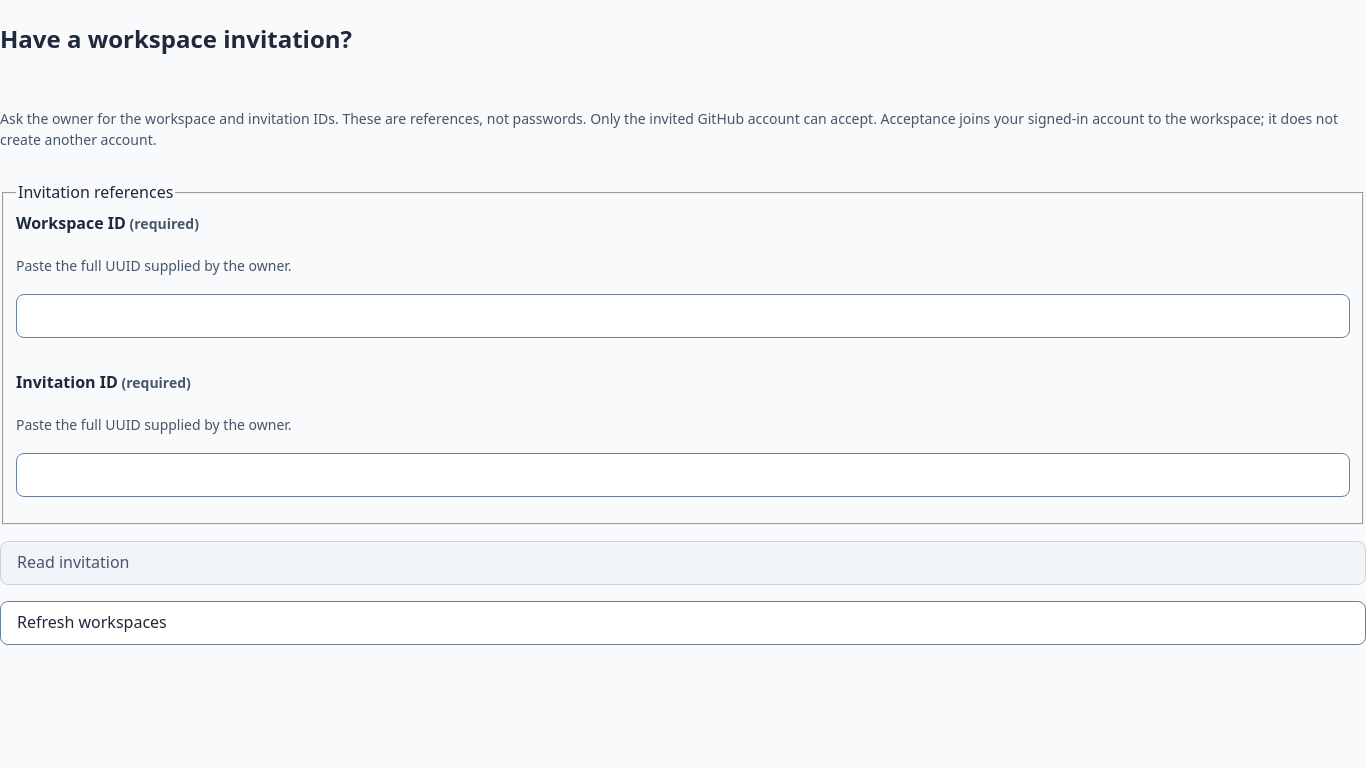
Scenario: locks unconfirmed acceptance without automatic retry: offline
Type "11111111-1111-4111-8111-111111111111" into the field labelled "Workspace ID (required)".
click(683, 316); type("11111111-1111-4111-8111-111111111111")  # box [16,294,1350,338]
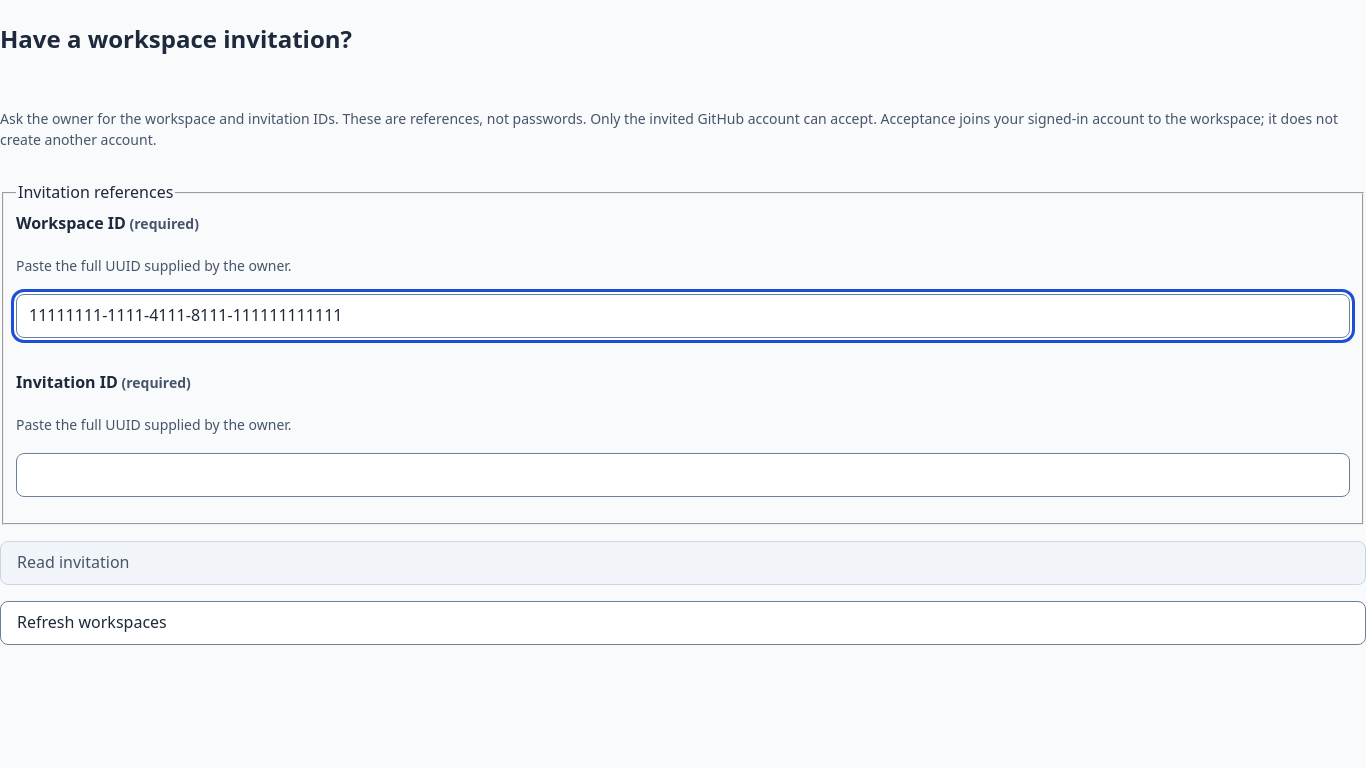
Type "22222222-2222-4222-8222-222222222222" into the field labelled "Invitation ID (required)".
click(683, 475); type("22222222-2222-4222-8222-222222222222")  # box [16,453,1350,497]
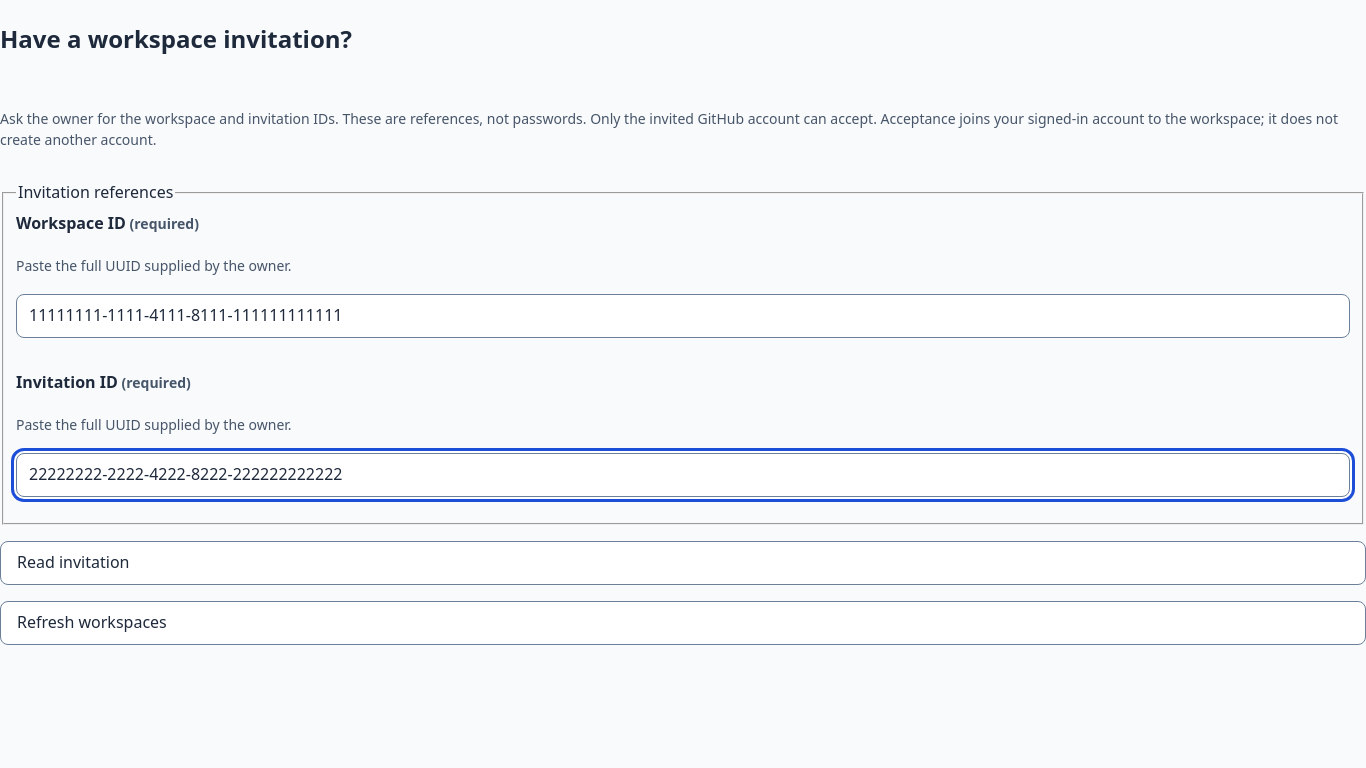
Click the button "Read invitation".
click(73, 562)  # box [0,541,1365,585]
(page scrolled)
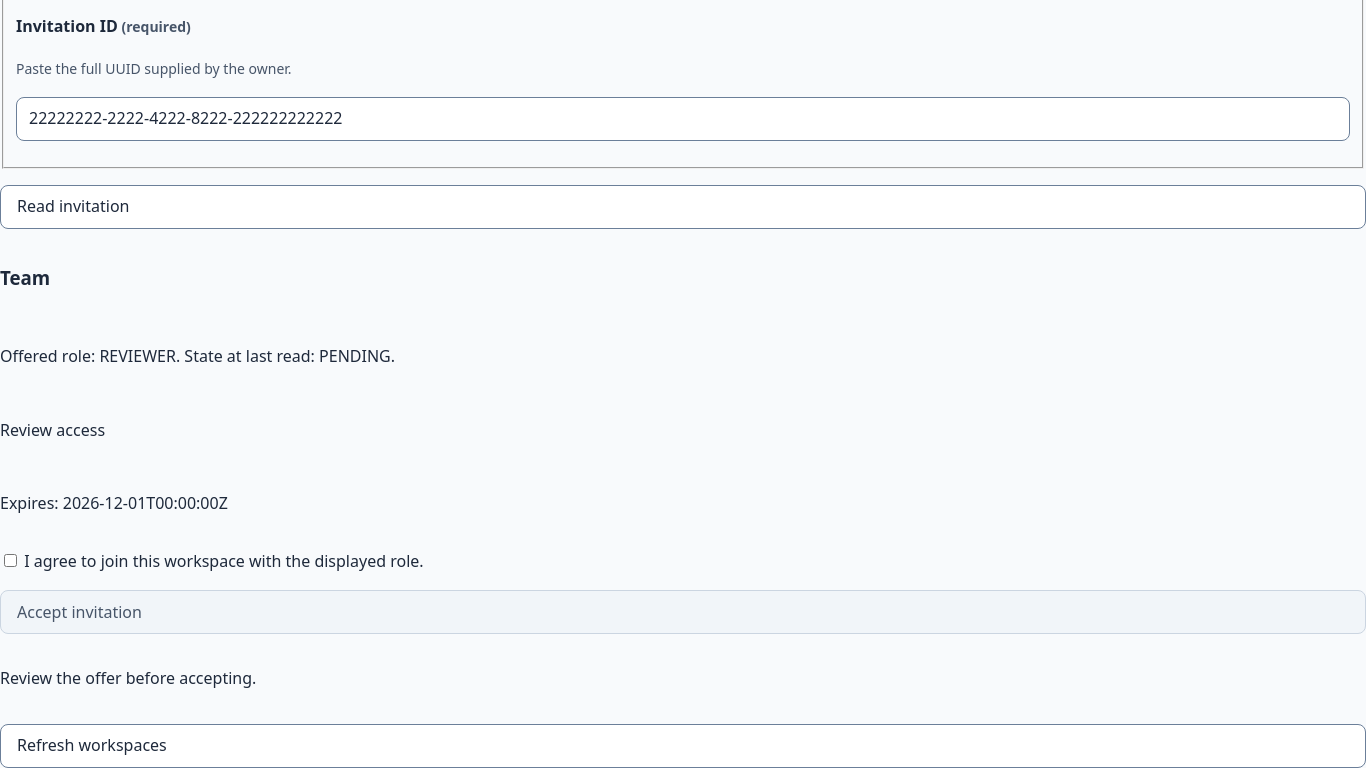
Click the checkbox.
click(10, 560)  # box [4,554,17,567]
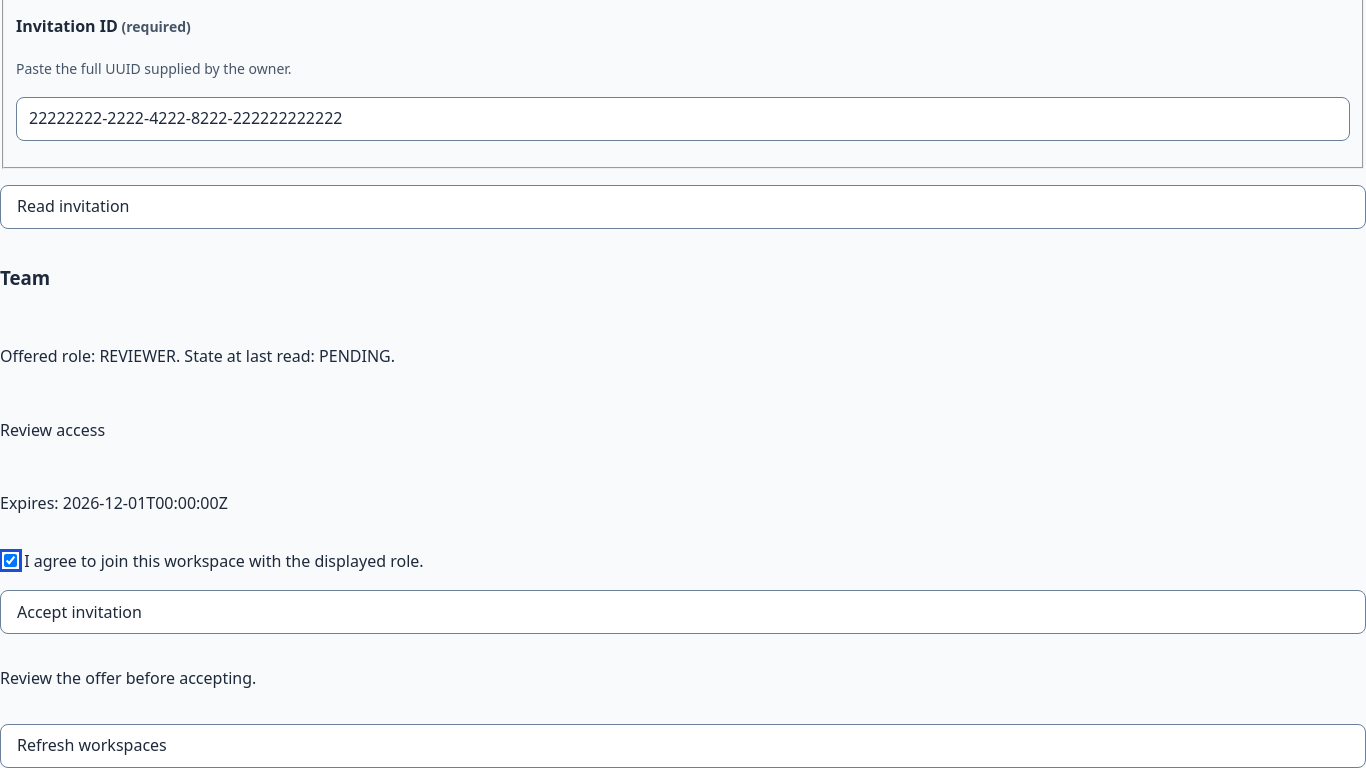
Click the button "Accept invitation".
click(79, 612)  # box [0,590,1365,634]
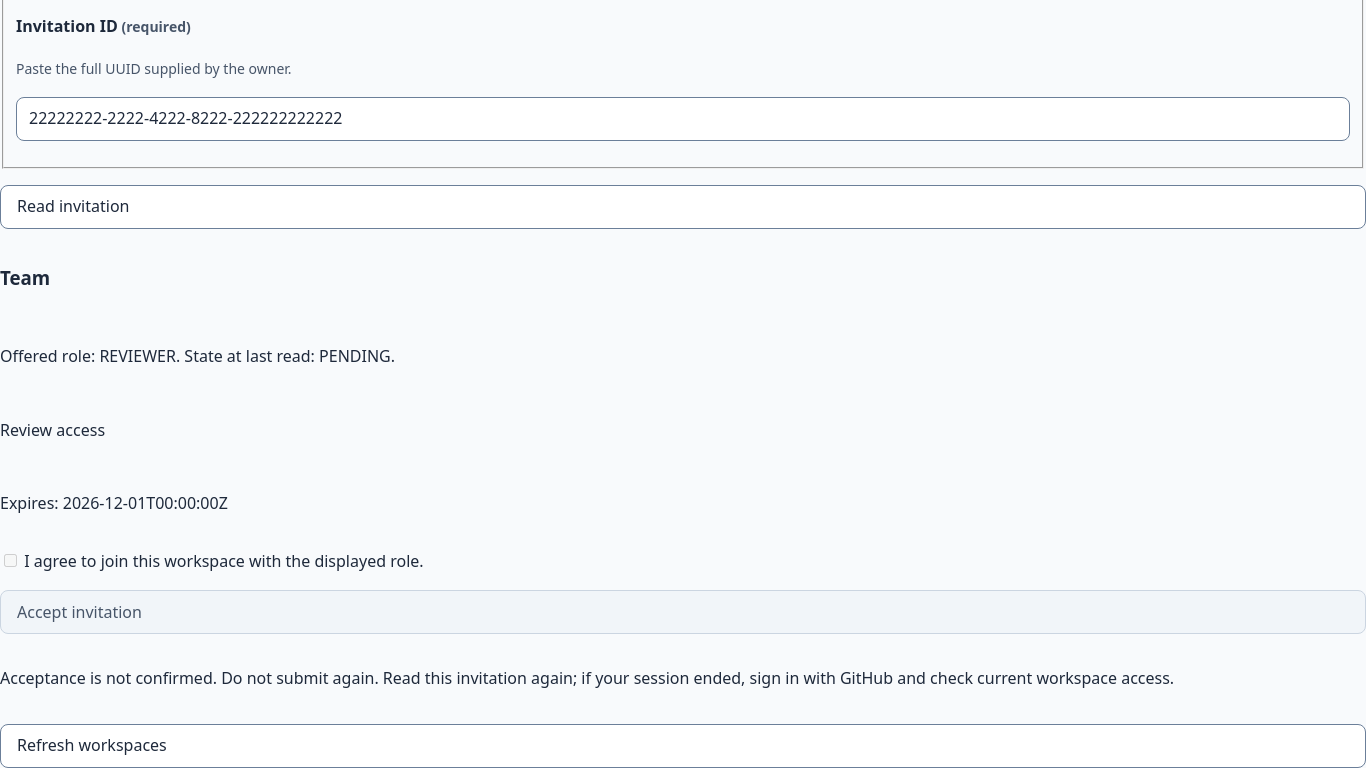
Expected: the message shows "Acceptance is not confirmed", [0,667,1174,689]
Expected: the button "Accept invitation" is disabled, [0,590,1365,634]
Click the button "Read invitation".
click(73, 206)  # box [0,185,1365,229]
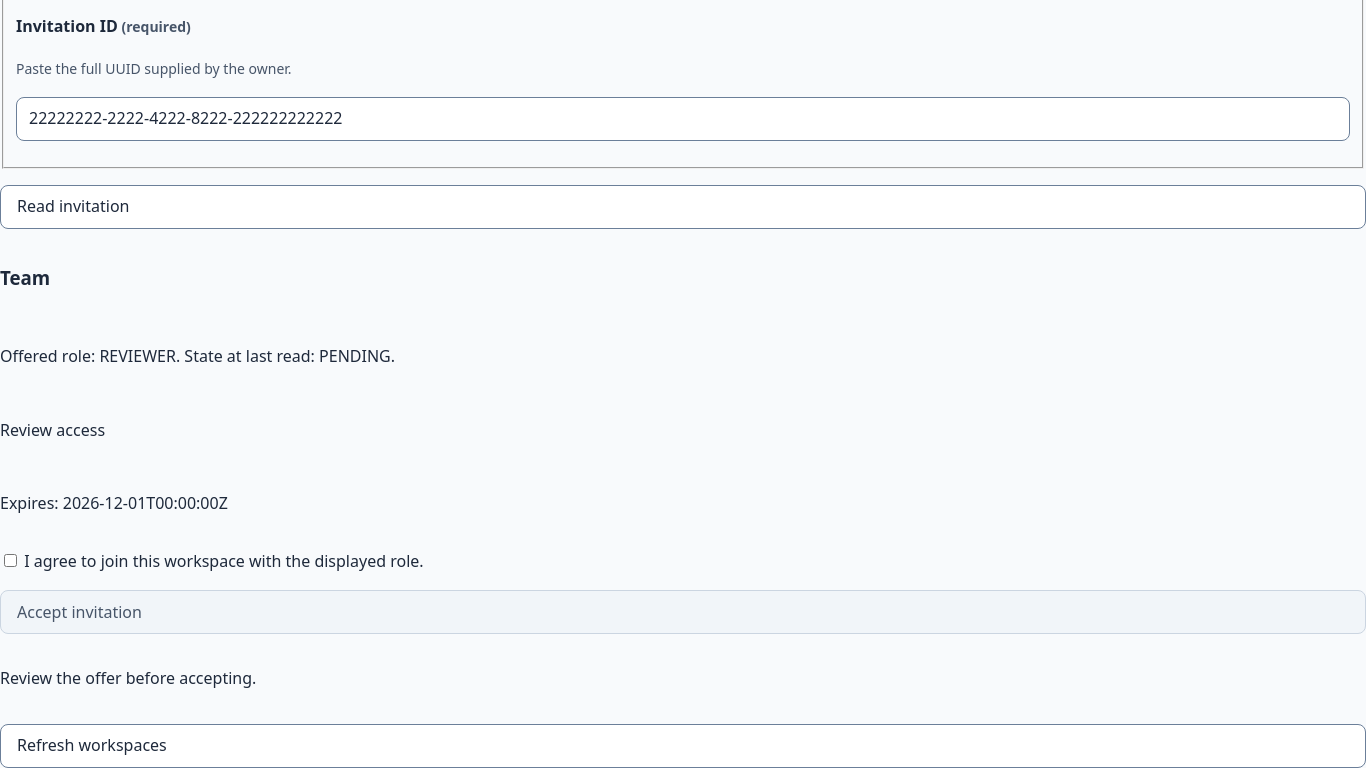
Expected: the checkbox is not checked, [4,554,17,567]
Expected: the message shows "Review the offer", [0,667,256,689]
